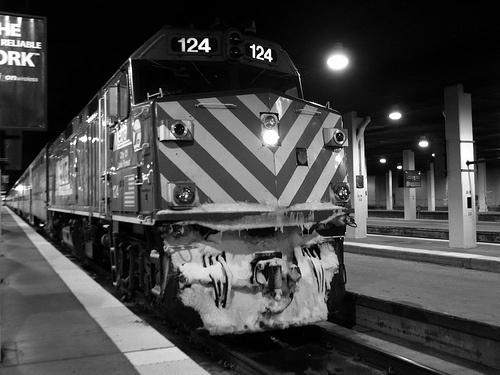train: (1, 26, 358, 340)
